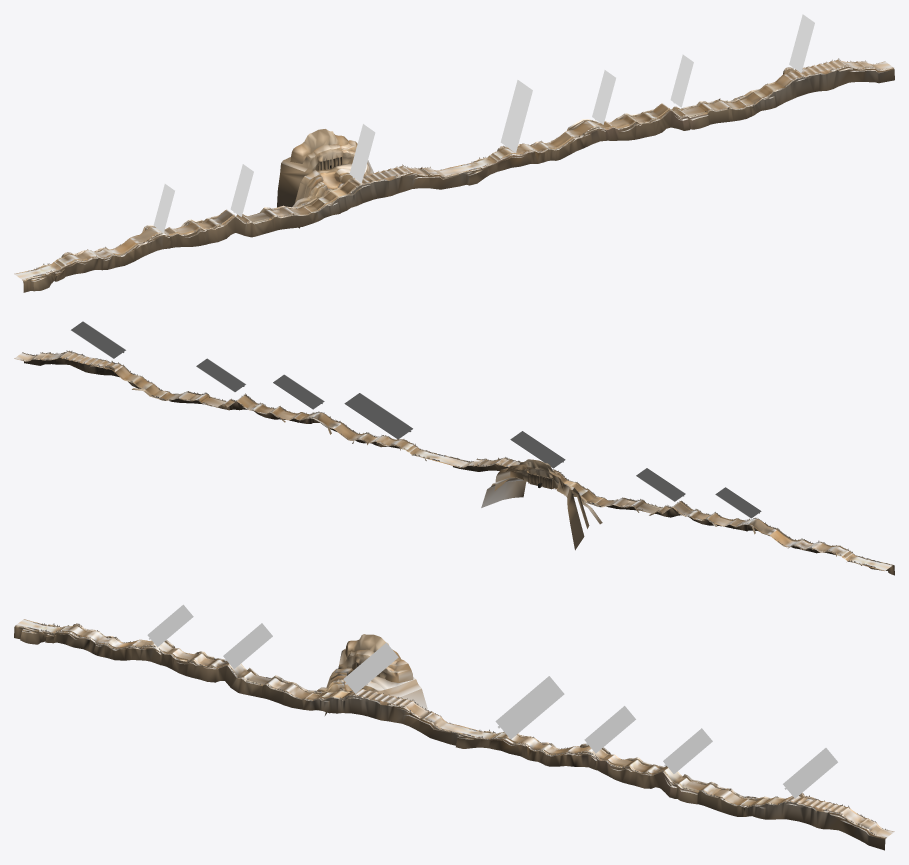
File: Desert_05.fbx
The picture shows the model from 3 angles, top to bottom: view 1: azimuth 30°, elevation 25°; view 2: azimuth 150°, elevation 25°; view 3: azimuth 330°, elevation 25°; orthographic projection.
Parts seen in each view (by area): view 1: Mountain_01, Ground_01, Light_01, Road_01, Tree_01; view 2: Mountain_01, Ground_01, Light_01, Road_01, Tree_01; view 3: Mountain_01, Light_01, Ground_01, Road_01, Tree_01.
Boxes of the visible parts, bbox=[...] form: Mountain_01: bbox=[22, 66, 894, 292]; Ground_01: bbox=[15, 60, 892, 279]; Light_01: bbox=[153, 14, 814, 232]; Road_01: bbox=[14, 59, 892, 279]; Tree_01: bbox=[33, 58, 893, 276]; Mountain_01: bbox=[23, 351, 894, 575]; Ground_01: bbox=[15, 352, 891, 570]; Light_01: bbox=[71, 321, 761, 518]; Road_01: bbox=[14, 351, 892, 570]; Tree_01: bbox=[20, 350, 881, 565]; Mountain_01: bbox=[14, 624, 886, 850]; Light_01: bbox=[147, 604, 837, 798]; Ground_01: bbox=[17, 620, 893, 836]; Road_01: bbox=[16, 619, 894, 837]; Tree_01: bbox=[27, 623, 888, 838].
Bounding box in the file's own units: 101315 × 10302 × 7671.
